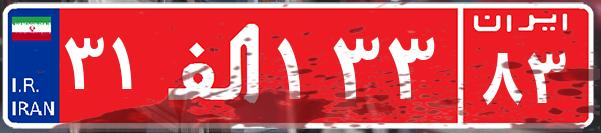1: (273, 28, 330, 110), (110, 28, 158, 105)
3: (385, 28, 445, 110), (330, 28, 385, 110), (57, 26, 110, 107), (525, 38, 570, 115)
8: (475, 38, 525, 113)
الف: (158, 15, 273, 115)
